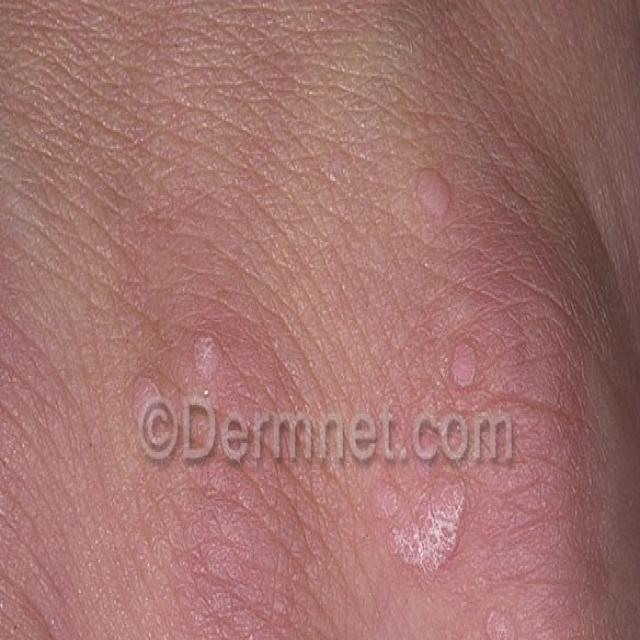Warts: (364, 383, 514, 640), (114, 299, 248, 446), (401, 149, 464, 237), (426, 330, 508, 395)
